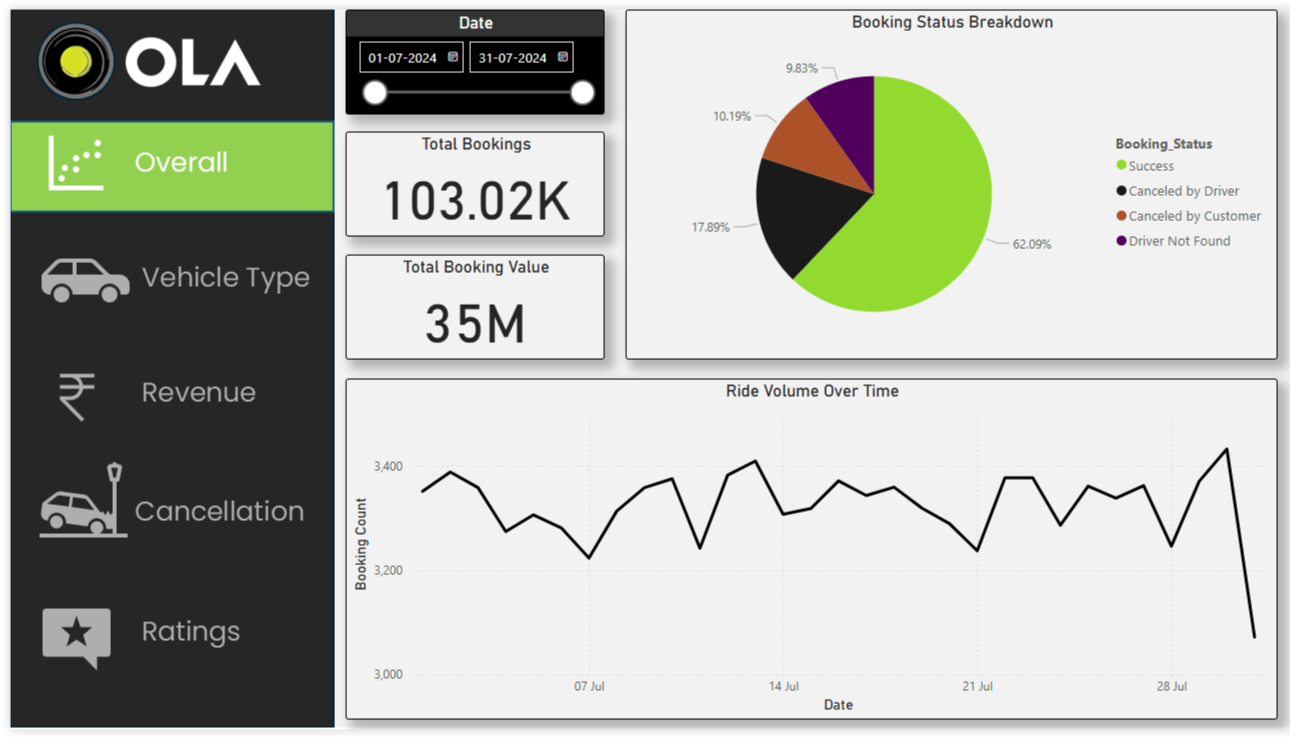

This screenshot's page, from the dashboard's own definition file:
{"tool":"powerbi","page":{"name":"Overall ","canvas":[1280,720],"ordinal":0},"visuals":[{"type":"actionButton","box":[0,224.4,324.1,90.7],"z":0},{"type":"actionButton","box":[0,341.1,324.1,93.4],"z":1000},{"type":"actionButton","box":[0,448.9,324.1,92.5],"z":2000},{"type":"actionButton","box":[0,580,324.1,92.5],"z":3000},{"type":"lineChart","title":"Ride Volume Over Time","fields":{"Category":["Bookiings.Date"],"Y":["CountNonNull(Bookiings.Booking_ID)"]},"box":[335,369,932,341],"z":4000},{"type":"pieChart","title":"Booking Status Breakdown","fields":{"Category":["Bookiings.Booking_Status"],"Y":["CountNonNull(Bookiings.Booking_Status)"]},"box":[615,0,652,350],"z":5000},{"type":"card","title":"Total Bookings","fields":{"Values":["CountNonNull(Bookiings.Booking_ID)"]},"box":[335,122,259,105],"z":6000},{"type":"card","title":"Total Booking Value","fields":{"Values":["Sum(Bookiings.Booking_Value)"]},"box":[335,245,259,105],"z":7000},{"type":"slicer","title":"Date","fields":{"Values":["Bookiings.Date"]},"box":[335,0,259,105],"z":8000}]}

Visuals, with their boxes in screenshot pixels (x1, y1, x2, y2), scaled from the page's 1280x720 canvas onto the 1290x737 screenshot:
actionButton: detection(0, 230, 327, 323)
actionButton: detection(0, 349, 327, 445)
actionButton: detection(0, 459, 327, 554)
actionButton: detection(0, 594, 327, 688)
"Ride Volume Over Time" lineChart: detection(338, 378, 1277, 727)
"Booking Status Breakdown" pieChart: detection(620, 0, 1277, 358)
"Total Bookings" card: detection(338, 125, 599, 232)
"Total Booking Value" card: detection(338, 251, 599, 358)
"Date" slicer: detection(338, 0, 599, 107)
